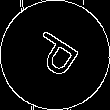P_SE: (24, 26, 86, 84)
